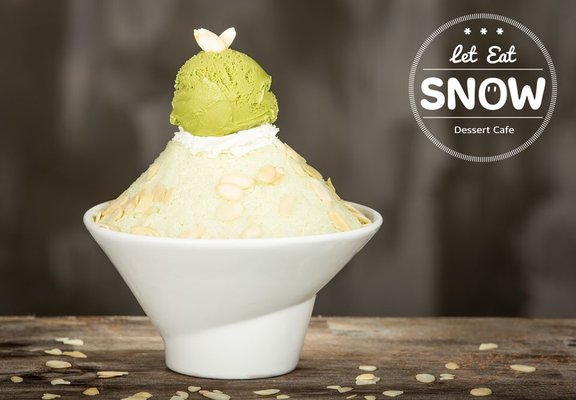sushi: (79, 25, 382, 384)
